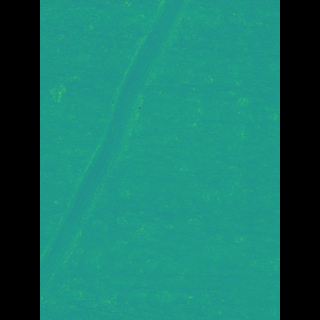Loch: (69, 0, 183, 303)
